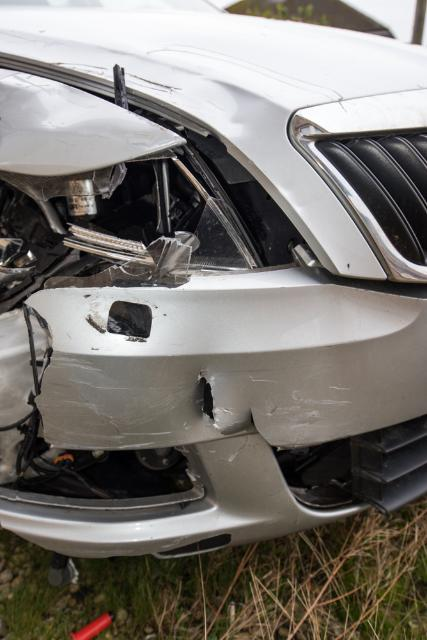crack: (200, 369, 217, 423)
dent: (39, 87, 148, 129), (209, 80, 262, 138)
lamp broken: (0, 147, 256, 311)
scratch: (38, 356, 193, 450), (264, 380, 351, 444)
